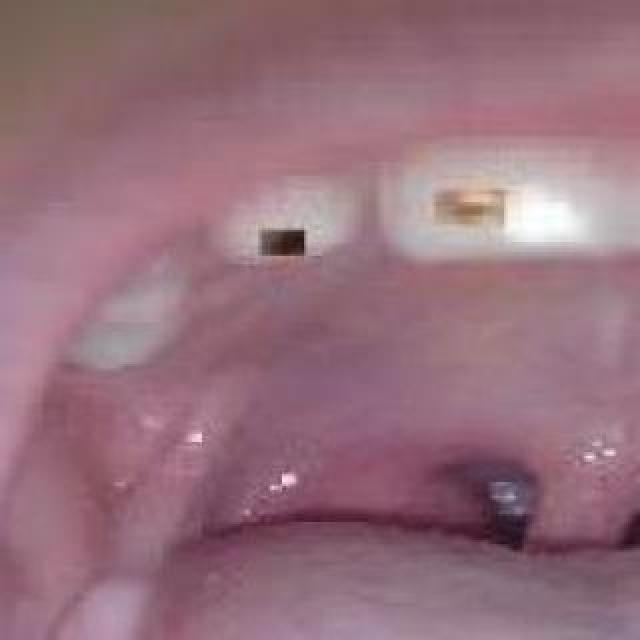cavities: (354, 110, 640, 280), (180, 149, 380, 285), (600, 110, 640, 270)
